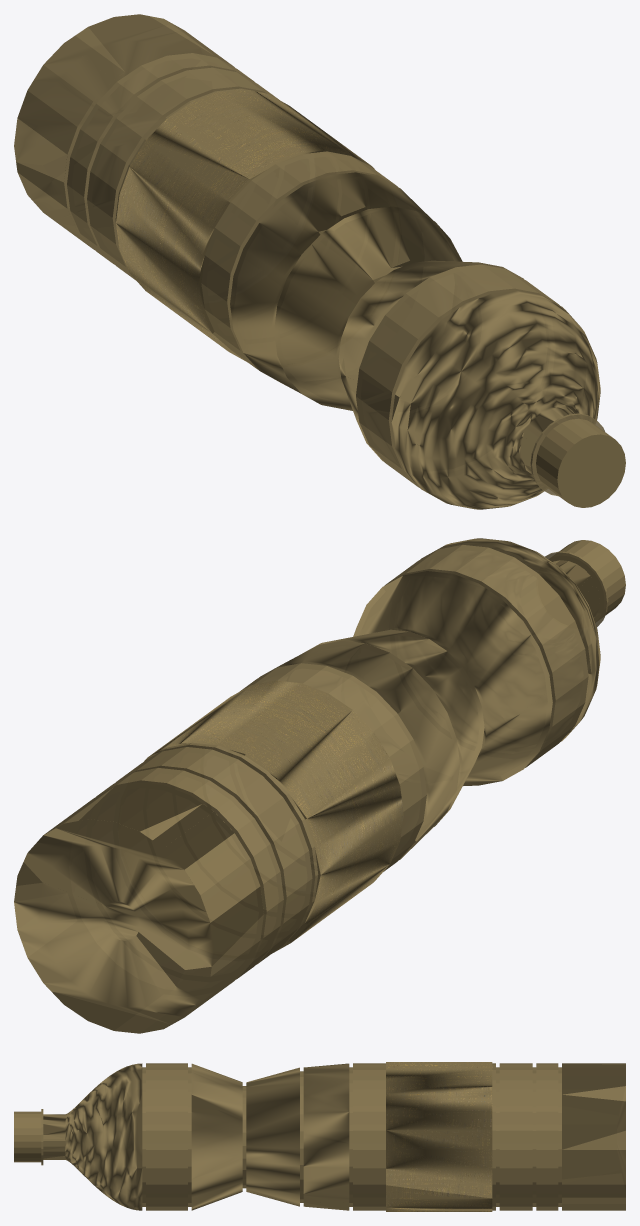
File: model_align.obj
3 renders of one model, top to bottom at view 1: azimuth 30°, elevation 25°; view 2: azimuth 150°, elevation 25°; view 3: azimuth 270°, elevation 25°, orthographic. The views are drawn at different scales.
Bounding box in the file's own units: 0.0608 × 0.0608 × 0.2475.
